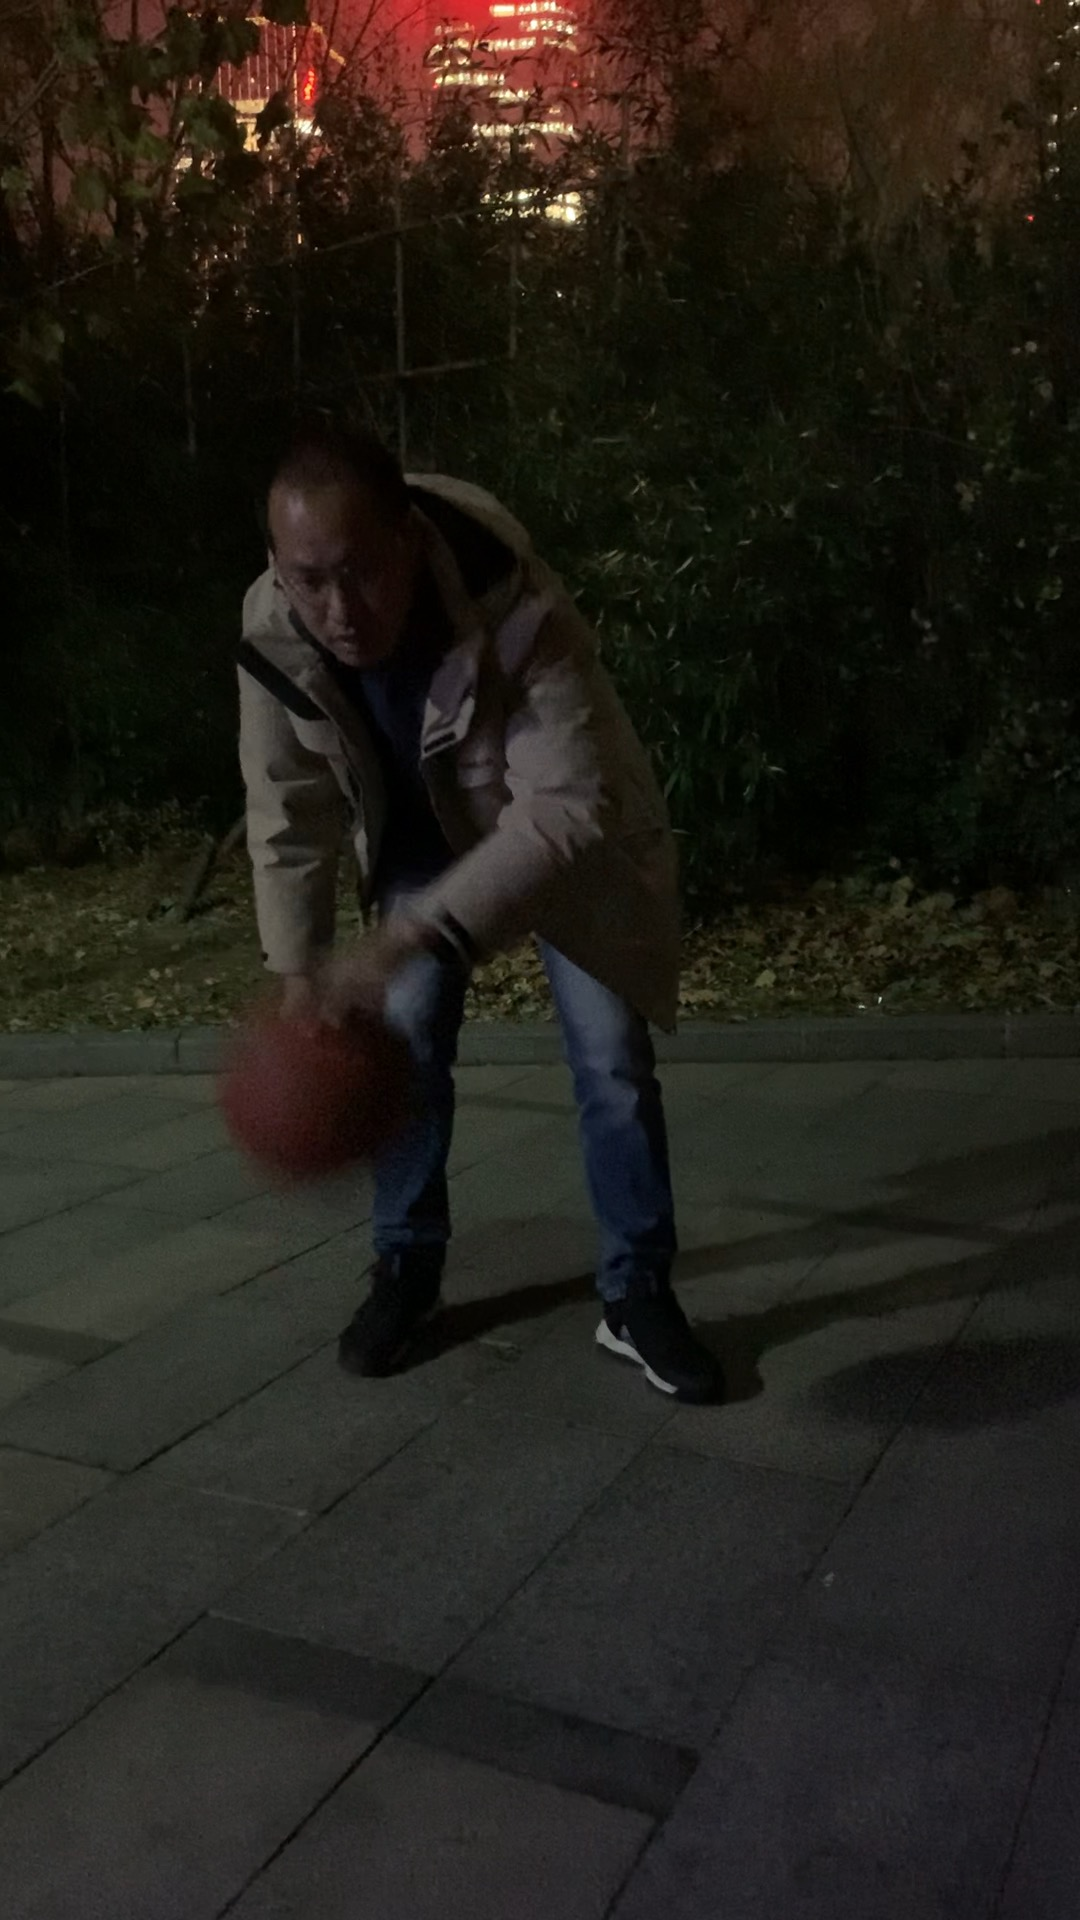ball: (220, 986, 426, 1188)
